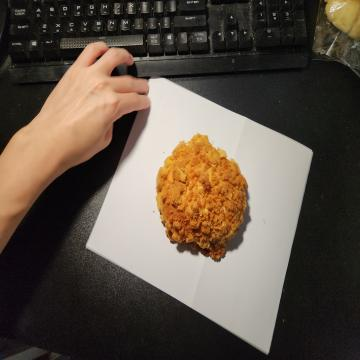soboru_bread: (156, 133, 247, 261)
